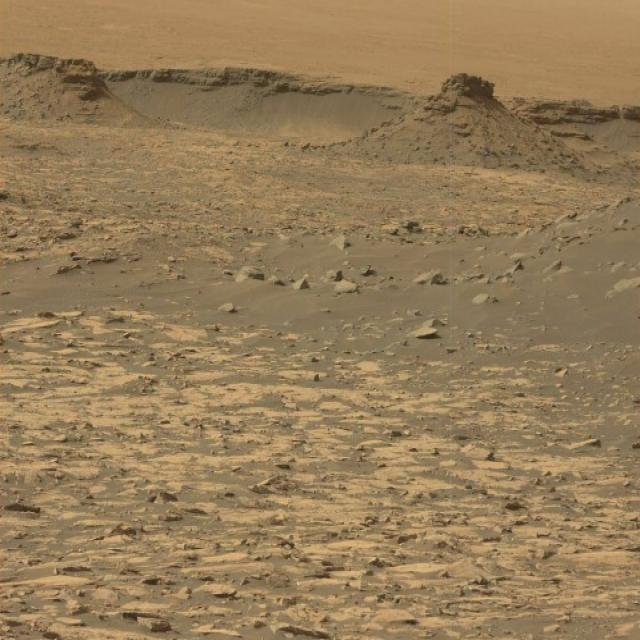rock: (439, 71, 502, 101)
